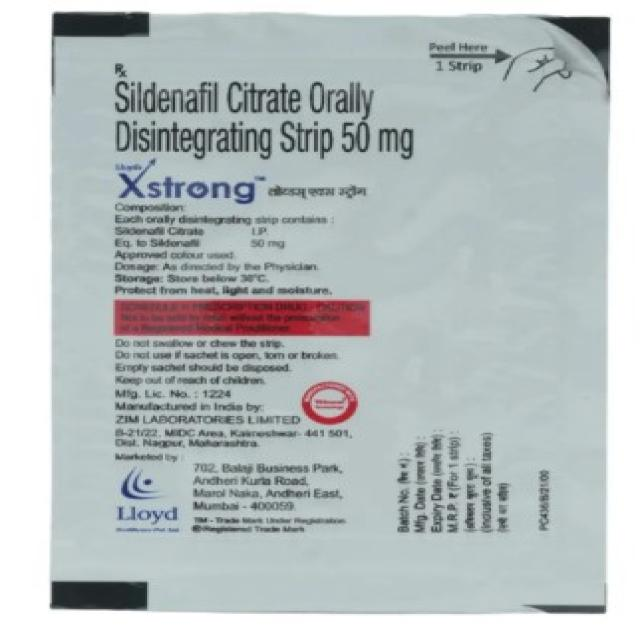Medicine-name: (105, 80, 437, 164)
